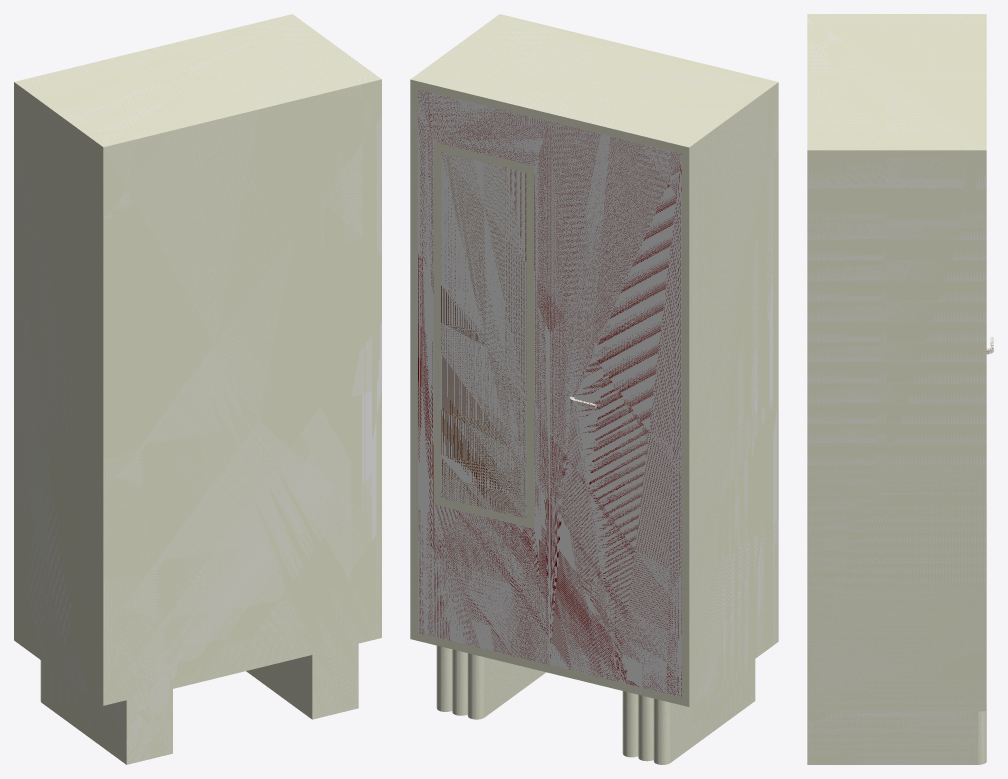
3 renders of one model, left to right at view 1: azimuth 30°, elevation 25°; view 2: azimuth 150°, elevation 25°; view 3: azimuth 270°, elevation 25°, orthographic.
Parts seen in each view (by area): view 1: mesh1_mesh1-geometry; view 2: mesh1_mesh1-geometry; view 3: mesh1_mesh1-geometry.
Boxes of the visible parts, <box> form: mesh1_mesh1-geometry: <box>14,14,381,764</box>; mesh1_mesh1-geometry: <box>410,14,778,764</box>; mesh1_mesh1-geometry: <box>807,14,993,764</box>.
Size of the model in its own units: 0.4114 by 0.88 by 0.2372.
